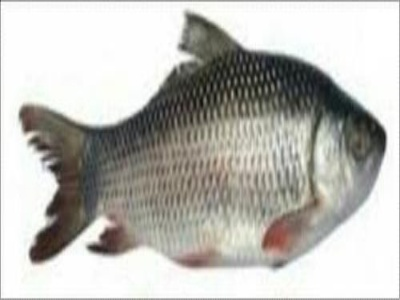rohu: (10, 10, 391, 274)
